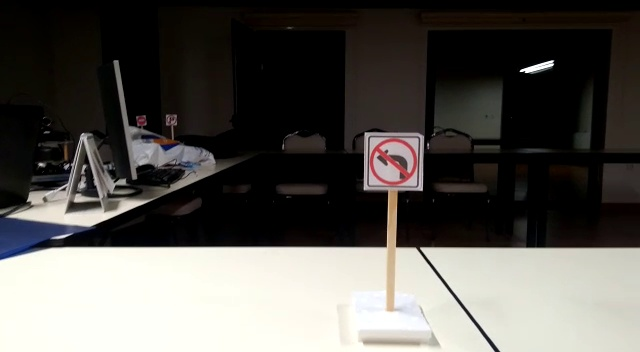sola_donulmez: (367, 141, 420, 184)
